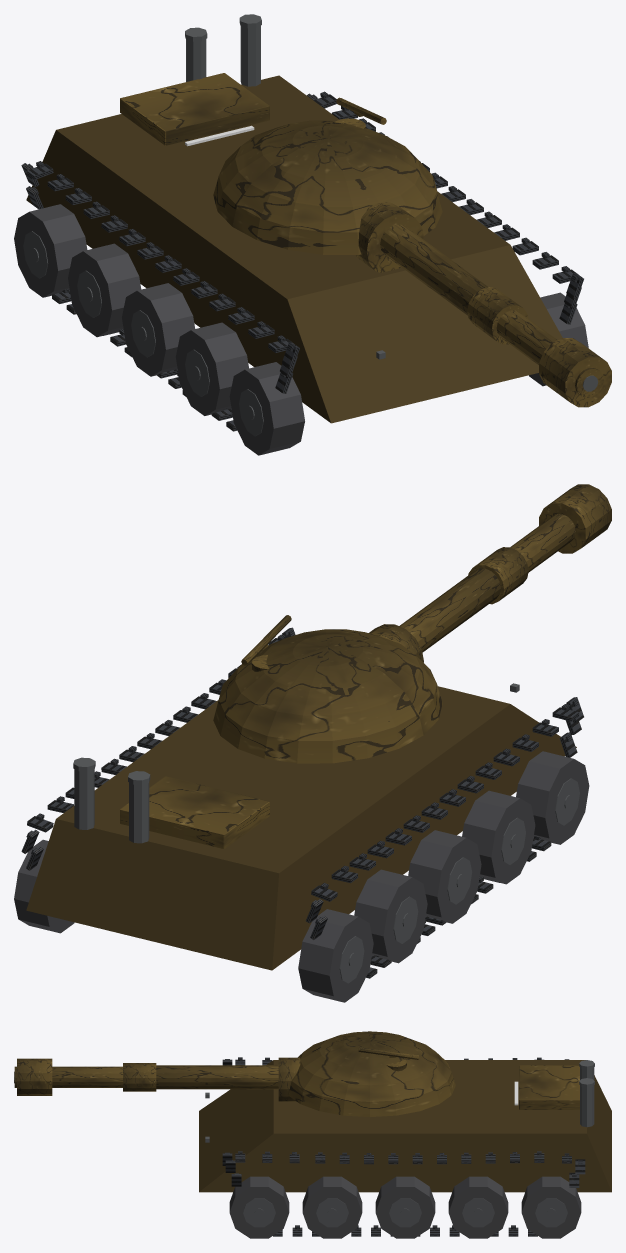
File: kestrel_LOD1.glb
3 renders of one model, top to bottom at view 1: azimuth 30°, elevation 25°; view 2: azimuth 150°, elevation 25°; view 3: azimuth 270°, elevation 25°, orthographic. The views are drawn at different scales.
Visible parts, largest first — view 1: HullMesh, Wheels_L, TurretMesh, TrackL, Gun_tube1, TrackR, Gun_brk, Gun_tube2, Gun_ext, exh1, Wheels_R, exh-1; view 2: HullMesh, TurretMesh, Wheels_L, TrackL, Gun_tube1, TrackR, Gun_brk, Gun_tube2, Wheels_R, Gun_ext, exh1, exh-1; view 3: HullMesh, Wheels_R, TurretMesh, TrackR, Gun_tube1, Gun_tube2, Gun_brk, Gun_ext, exh1.
Part boxes in pixels (x1,y1,x2,y2): HullMesh: [26, 73, 562, 423]; Wheels_L: [14, 204, 304, 455]; TurretMesh: [213, 97, 442, 272]; TrackL: [21, 161, 299, 431]; Gun_tube1: [380, 224, 488, 315]; TrackR: [307, 91, 583, 324]; Gun_brk: [539, 338, 611, 407]; Gun_tube2: [496, 310, 603, 397]; Gun_ext: [467, 287, 527, 344]; exh1: [240, 25, 260, 86]; Wheels_R: [529, 292, 588, 386]; exh-1: [186, 39, 206, 81]; HullMesh: [26, 683, 576, 970]; TurretMesh: [213, 615, 442, 763]; Wheels_L: [298, 751, 589, 1002]; TrackL: [306, 697, 583, 978]; Gun_tube1: [399, 568, 500, 652]; TrackR: [21, 627, 295, 870]; Gun_brk: [539, 484, 611, 553]; Gun_tube2: [510, 514, 575, 572]; Wheels_R: [14, 839, 74, 933]; Gun_ext: [468, 547, 528, 604]; exh1: [74, 769, 94, 829]; exh-1: [129, 782, 149, 843]; HullMesh: [199, 1060, 611, 1192]; Wheels_R: [229, 1176, 581, 1238]; TurretMesh: [278, 1031, 455, 1116]; TrackR: [222, 1151, 585, 1236]; Gun_tube1: [156, 1065, 278, 1089]; Gun_tube2: [14, 1066, 122, 1087]; Gun_brk: [17, 1058, 52, 1095]; Gun_ext: [123, 1063, 156, 1091]; exh1: [580, 1085, 594, 1127].
Size of the model in its own units: 3.5 by 2.4 by 8.4.
Materials: 5 (3 with a texture image).
